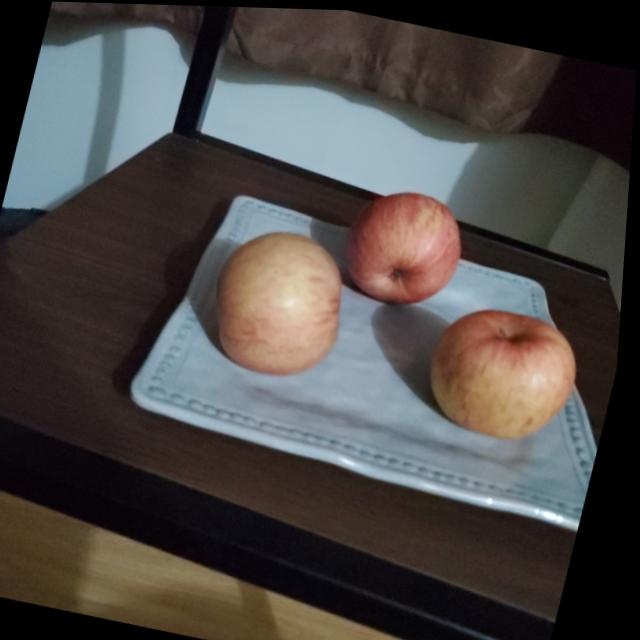apple: (198, 216, 361, 384), (423, 298, 593, 446), (335, 177, 476, 313)
